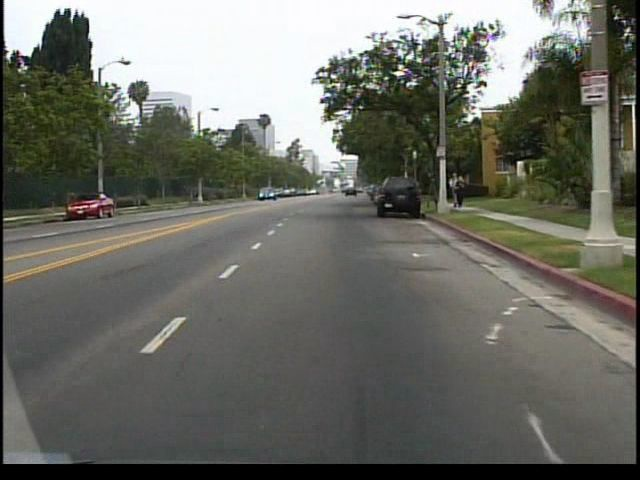person: (448, 169, 464, 210), (455, 173, 469, 208)
